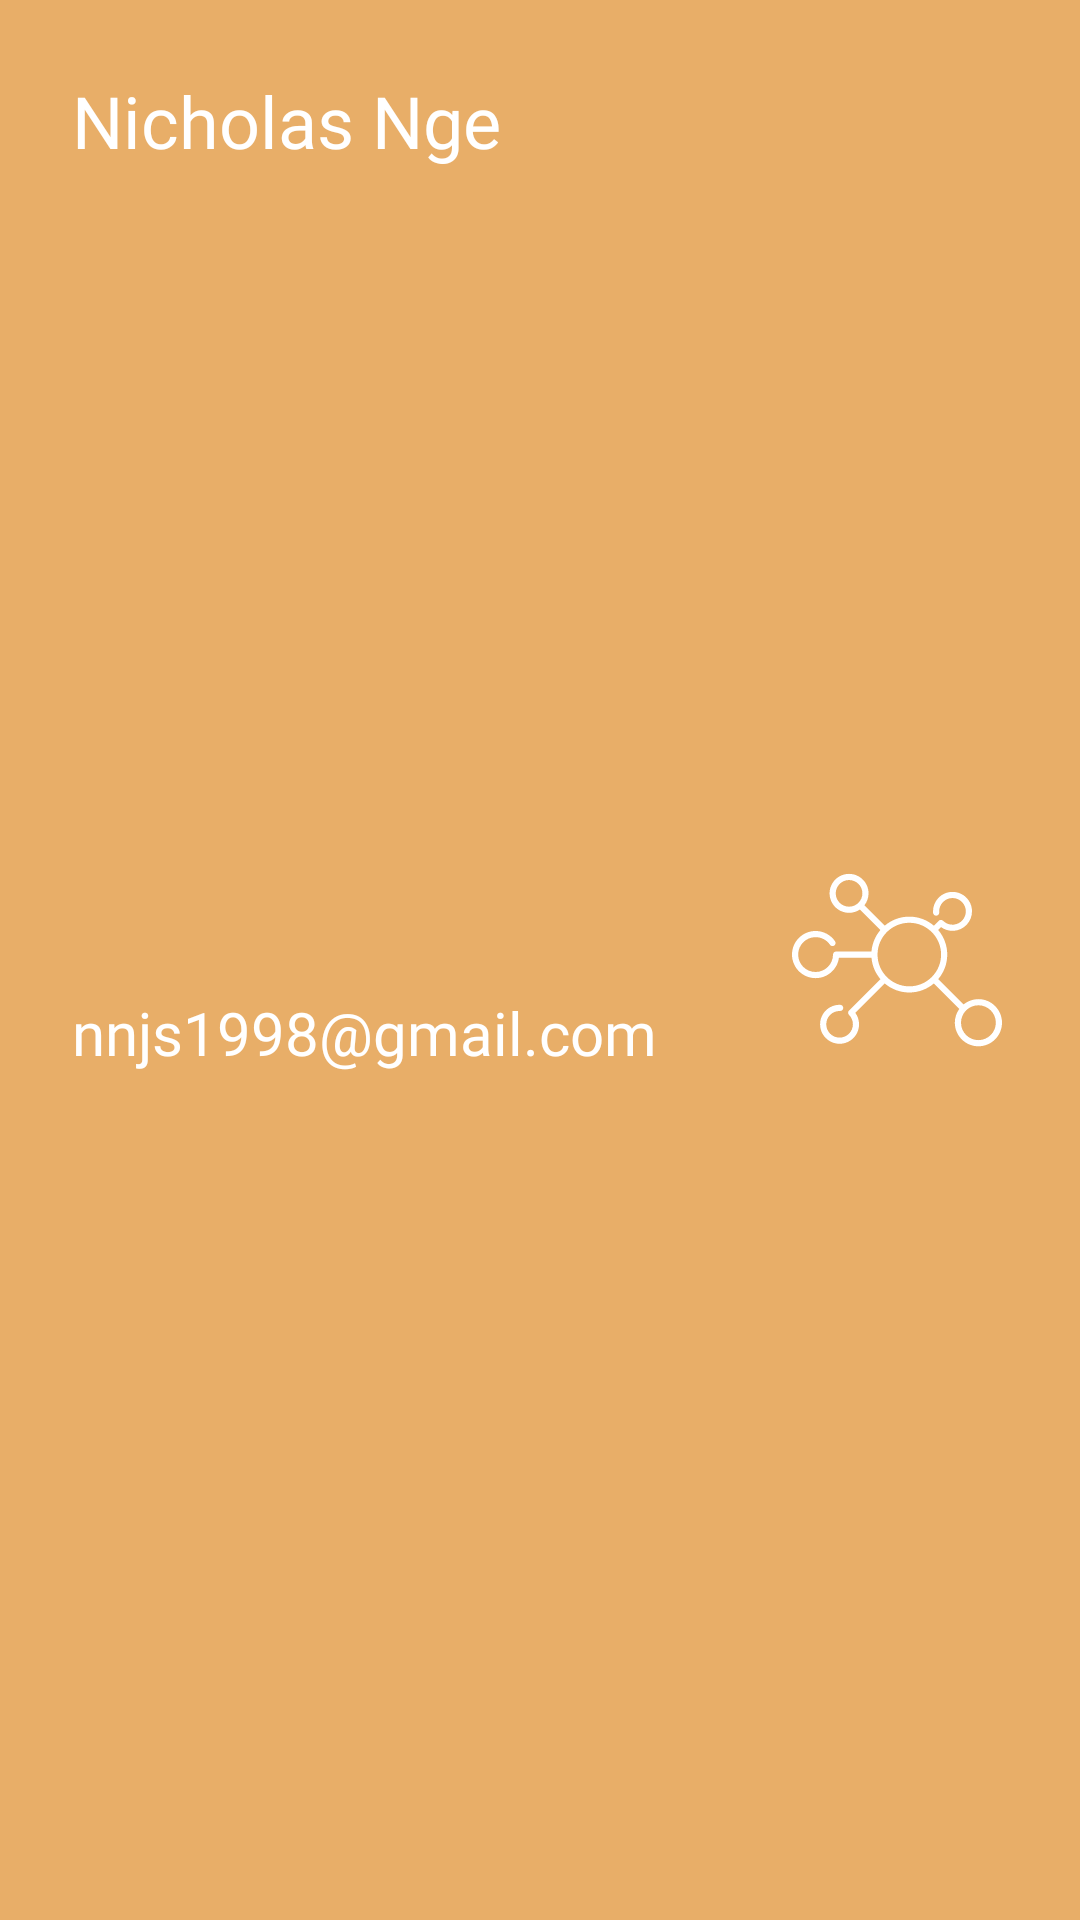

Icon bounding boxes for this 1080 x 1920 phone screenshot, format (x1, y1, x2, y2):
molecular: (792, 874, 1002, 1047)
